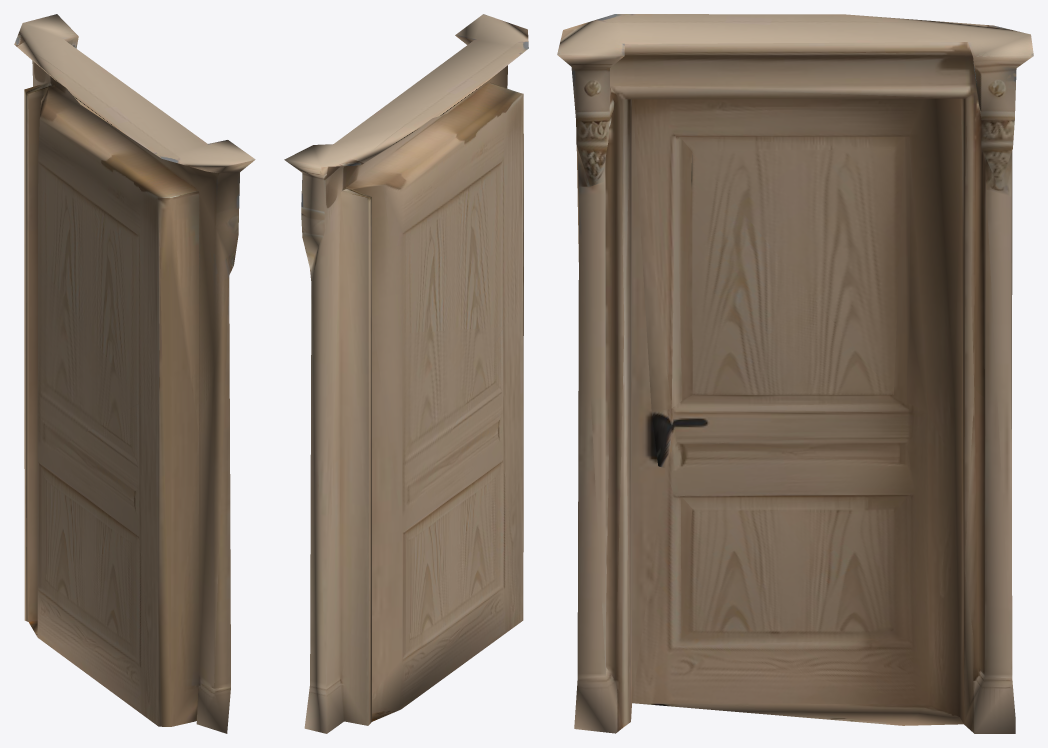
File: TripoModel.glb
The picture shows the model from 3 angles, left to right: view 1: azimuth 30°, elevation 25°; view 2: azimuth 150°, elevation 25°; view 3: azimuth 270°, elevation 25°; orthographic projection. The views are drawn at different scales.
Visible parts, largest first — view 1: tripo_node_a20d3b1b-22e2-4f25-a784-2f5da21f7dc9; view 2: tripo_node_a20d3b1b-22e2-4f25-a784-2f5da21f7dc9; view 3: tripo_node_a20d3b1b-22e2-4f25-a784-2f5da21f7dc9.
Part boxes in pixels (x1,y1,x2,y2): tripo_node_a20d3b1b-22e2-4f25-a784-2f5da21f7dc9: (14, 14, 255, 733); tripo_node_a20d3b1b-22e2-4f25-a784-2f5da21f7dc9: (284, 14, 528, 733); tripo_node_a20d3b1b-22e2-4f25-a784-2f5da21f7dc9: (557, 14, 1033, 733).
Size of the model in its own units: 0.1284 by 0.9995 by 0.6286.
Materials: 1 (1 with a texture image).
